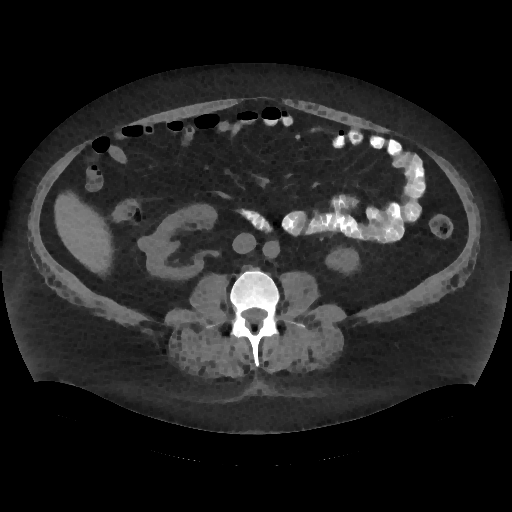Lesion: (136, 232, 156, 255)
